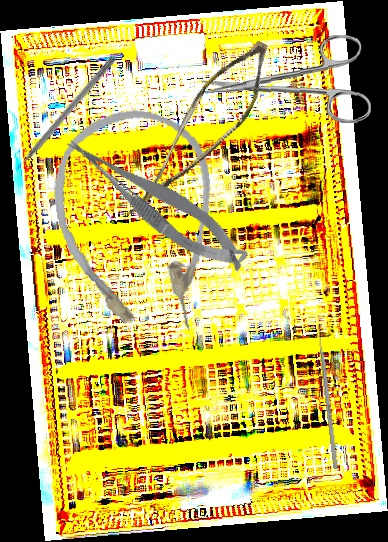Cannula: (44, 101, 230, 347)
Iris Scissors: (199, 34, 372, 128)
Micro Scissor: (59, 113, 256, 290), (127, 22, 280, 245)
Pusher: (5, 54, 117, 181), (315, 319, 339, 470)
